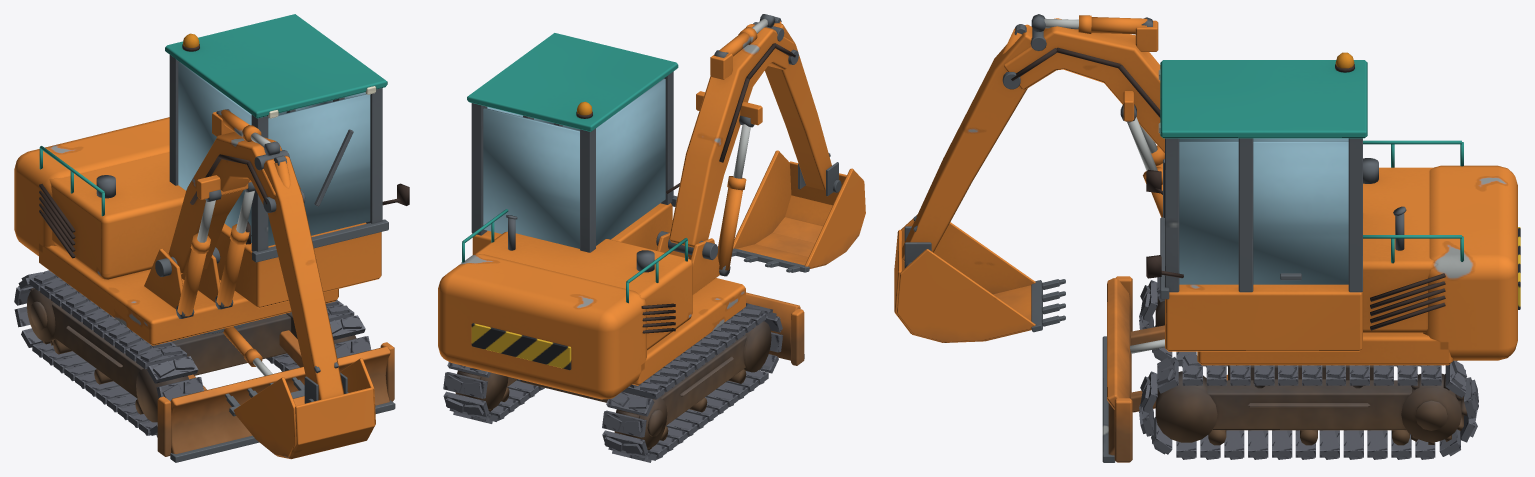
File: Works_MiniExcavator.fbx
The picture shows the model from 3 angles, left to right: view 1: azimuth 30°, elevation 25°; view 2: azimuth 150°, elevation 25°; view 3: azimuth 270°, elevation 25°; orthographic projection. The views are drawn at different scales.
Visible parts, largest first — view 1: Cab, Body, Boom, Bucket, Arm; view 2: Cab, Body, Boom, Bucket, Arm; view 3: Cab, Body, Bucket, Boom, Arm.
Part boxes in pixels (x1=…): Cab: x1=14, y1=14, x2=409, y2=345; Body: x1=14, y1=270, x2=395, y2=462; Boom: x1=155, y1=109, x2=305, y2=318; Bucket: x1=225, y1=358, x2=375, y2=459; Arm: x1=254, y1=150, x2=344, y2=400; Cab: x1=438, y1=33, x2=745, y2=399; Body: x1=443, y1=292, x2=804, y2=462; Boom: x1=656, y1=14, x2=798, y2=276; Bucket: x1=731, y1=150, x2=865, y2=272; Arm: x1=753, y1=17, x2=831, y2=190; Cab: x1=1146, y1=52, x2=1520, y2=365; Body: x1=1102, y1=276, x2=1478, y2=462; Bucket: x1=894, y1=214, x2=1065, y2=342; Boom: x1=1002, y1=14, x2=1164, y2=217; Arm: x1=902, y1=24, x2=1046, y2=261.
Bounding box in the file's own units: 1.87 × 2.24 × 3.48.
Materials: 1 (1 with a texture image).
